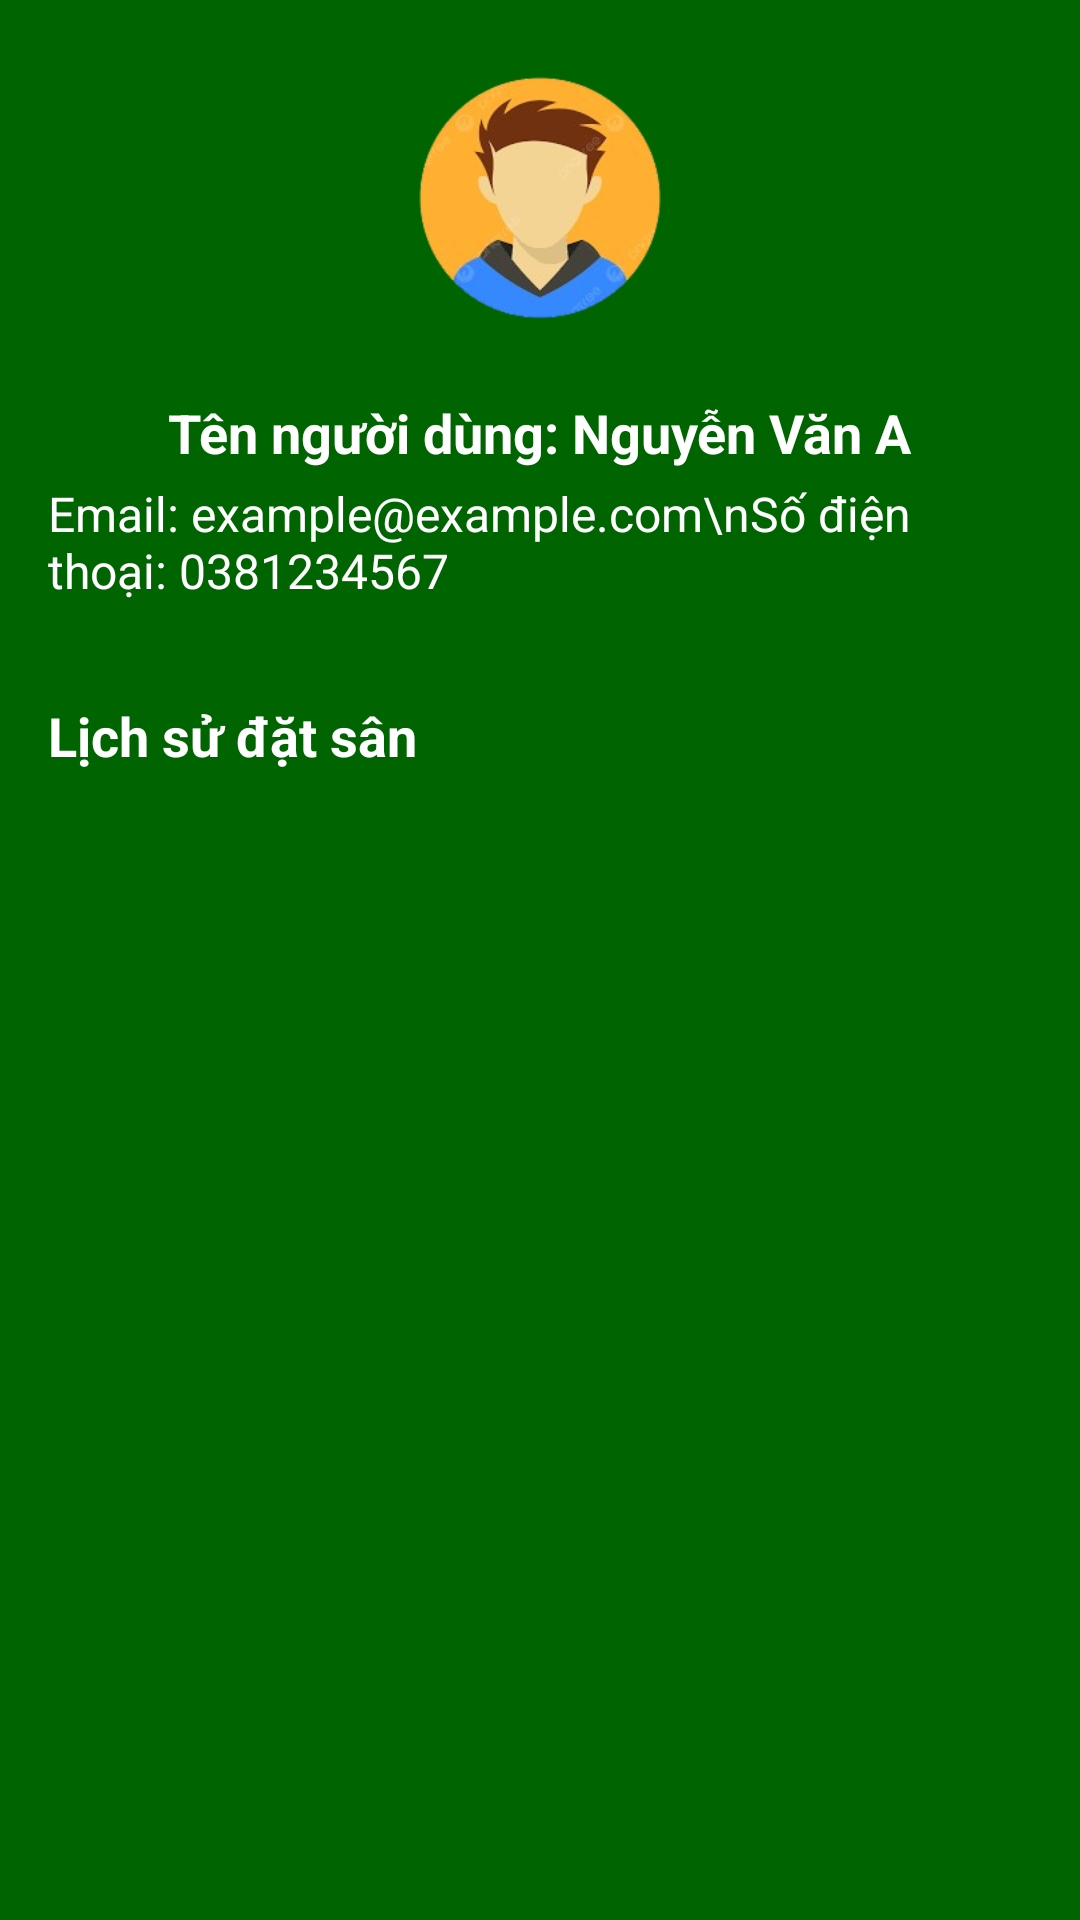

Named icons in this screenshot (1080w x 1920h) and their centers, [x,y]:
avtprofile: [540,198]
